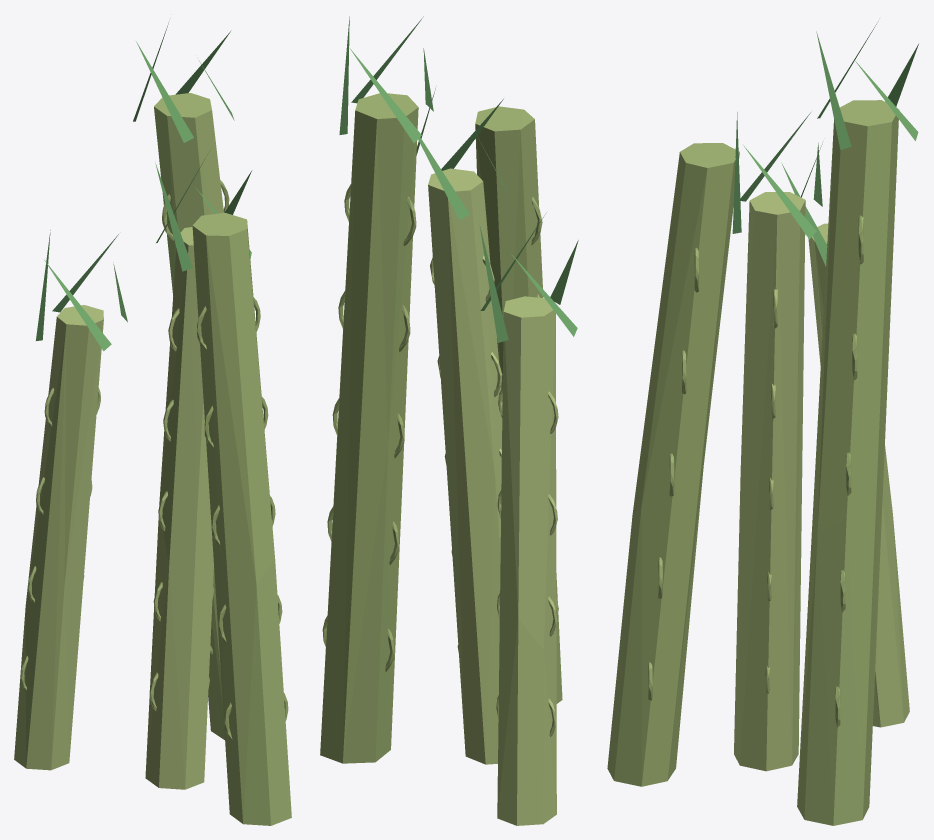
Rendered from 50-Vegetacion_canas_bambu.glb.
3 renders of one model, left to right at view 1: azimuth 30°, elevation 25°; view 2: azimuth 150°, elevation 25°; view 3: azimuth 270°, elevation 25°, orthographic. The views are drawn at different scales.
Visible parts, largest first — view 1: SM_Cana_3, SM_Cana_0, SM_Cana_2, SM_Cana_1, SM_Cana_1_Hoja_2, SM_Cana_0_Hoja_2, SM_Cana_2_Hoja_2; view 2: SM_Cana_1, SM_Cana_0, SM_Cana_2, SM_Cana_3, SM_Cana_0_Hoja_1, SM_Cana_2_Hoja_0, SM_Cana_1_Hoja_1, SM_Cana_1_Hoja_0, SM_Cana_2_Hoja_1, SM_Cana_0_Hoja_3; view 3: SM_Cana_1, SM_Cana_3, SM_Cana_0, SM_Cana_2, SM_Cana_1_Hoja_3, SM_Cana_0_Hoja_0, SM_Cana_0_Hoja_3.
Boxes of the visible parts, x1,y1,x2,y2 form: SM_Cana_3: (192, 212, 291, 825); SM_Cana_0: (145, 227, 213, 789); SM_Cana_2: (14, 305, 103, 770); SM_Cana_1: (154, 93, 224, 739); SM_Cana_1_Hoja_2: (136, 41, 193, 142); SM_Cana_0_Hoja_2: (155, 163, 192, 271); SM_Cana_2_Hoja_2: (44, 260, 111, 351); SM_Cana_1: (320, 93, 418, 763); SM_Cana_0: (428, 168, 502, 764); SM_Cana_2: (497, 296, 556, 825); SM_Cana_3: (475, 106, 562, 703); SM_Cana_0_Hoja_1: (418, 137, 469, 220); SM_Cana_2_Hoja_0: (479, 225, 508, 342); SM_Cana_1_Hoja_1: (349, 47, 421, 142); SM_Cana_1_Hoja_0: (339, 16, 349, 134); SM_Cana_2_Hoja_1: (511, 254, 577, 336); SM_Cana_0_Hoja_3: (441, 99, 503, 170); SM_Cana_1: (797, 100, 899, 825); SM_Cana_3: (607, 143, 739, 786); SM_Cana_0: (734, 192, 805, 771); SM_Cana_2: (808, 223, 909, 727); SM_Cana_1_Hoja_3: (816, 31, 851, 149); SM_Cana_0_Hoja_0: (743, 145, 816, 239); SM_Cana_0_Hoja_3: (732, 112, 741, 233).
Bounding box in the file's own units: 0.5908 × 1.65 × 0.6236.
